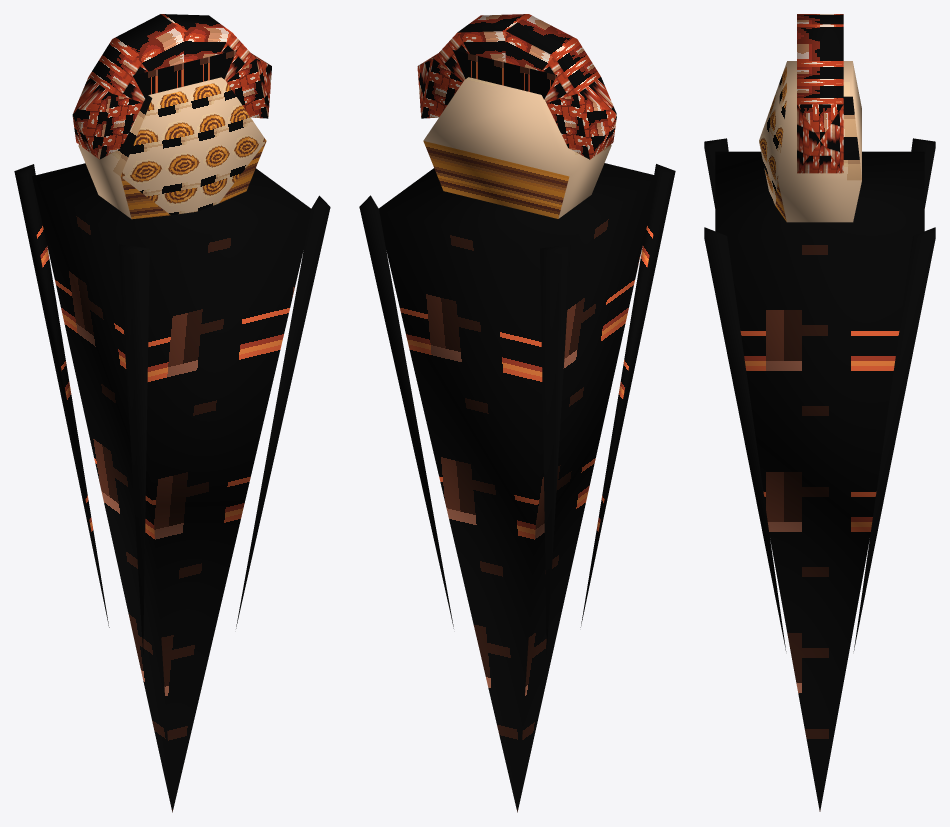
The model's file is 3187IMFY06_09.gltf.
3 renders of one model, left to right at view 1: azimuth 30°, elevation 25°; view 2: azimuth 150°, elevation 25°; view 3: azimuth 270°, elevation 25°, orthographic.
Visible parts, largest first — view 1: 3187IMFY06_09; view 2: 3187IMFY06_09; view 3: 3187IMFY06_09.
Part boxes in pixels (<box>): 3187IMFY06_09: <box>14,14,330,812</box>; 3187IMFY06_09: <box>359,14,675,812</box>; 3187IMFY06_09: <box>704,14,935,811</box>.
Size of the model in its own units: 0.8501 by 3.2 by 0.8501.
Materials: 3 (3 with a texture image).
